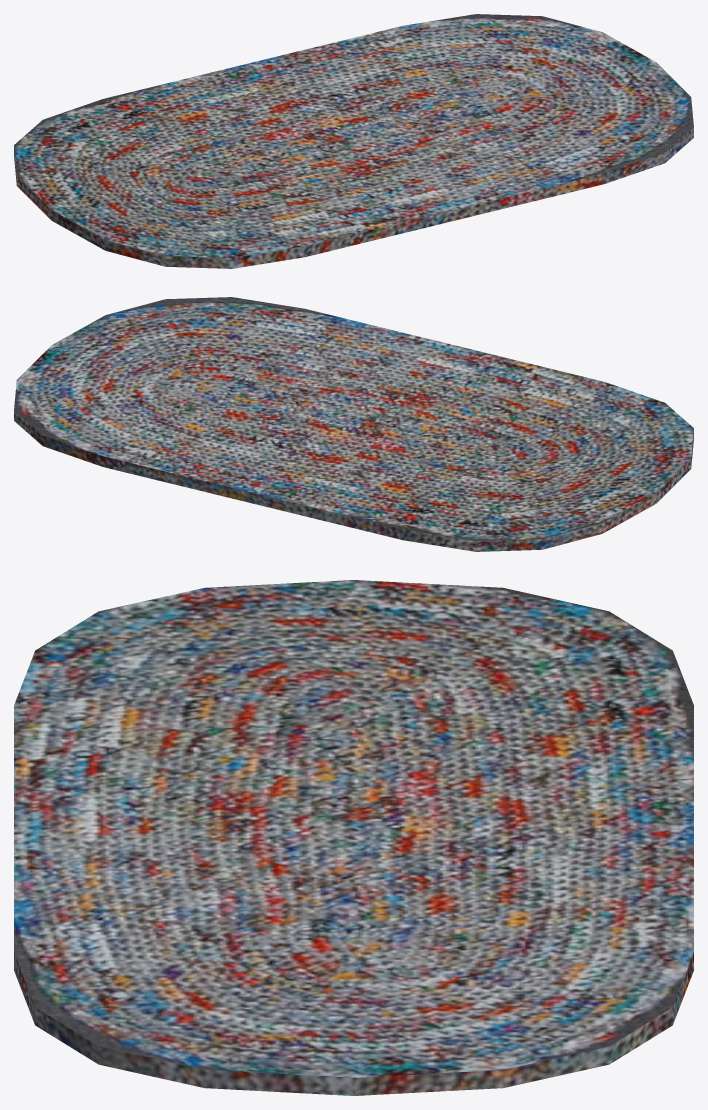
The model's file is kitchen_mat.FBX.
3 views of the same model, one above another, from view 1: azimuth 30°, elevation 25°; view 2: azimuth 150°, elevation 25°; view 3: azimuth 270°, elevation 25° (orthographic). The views are drawn at different scales.
Parts seen in each view (by area): view 1: kitchen_mat; view 2: kitchen_mat; view 3: kitchen_mat.
Part boxes in pixels (left/top/right/bottom): kitchen_mat: left=14, top=14, right=693, bottom=268; kitchen_mat: left=14, top=297, right=693, bottom=551; kitchen_mat: left=14, top=580, right=693, bottom=1095.
Size of the model in its own units: 32.98 by 0.5632 by 19.04.
